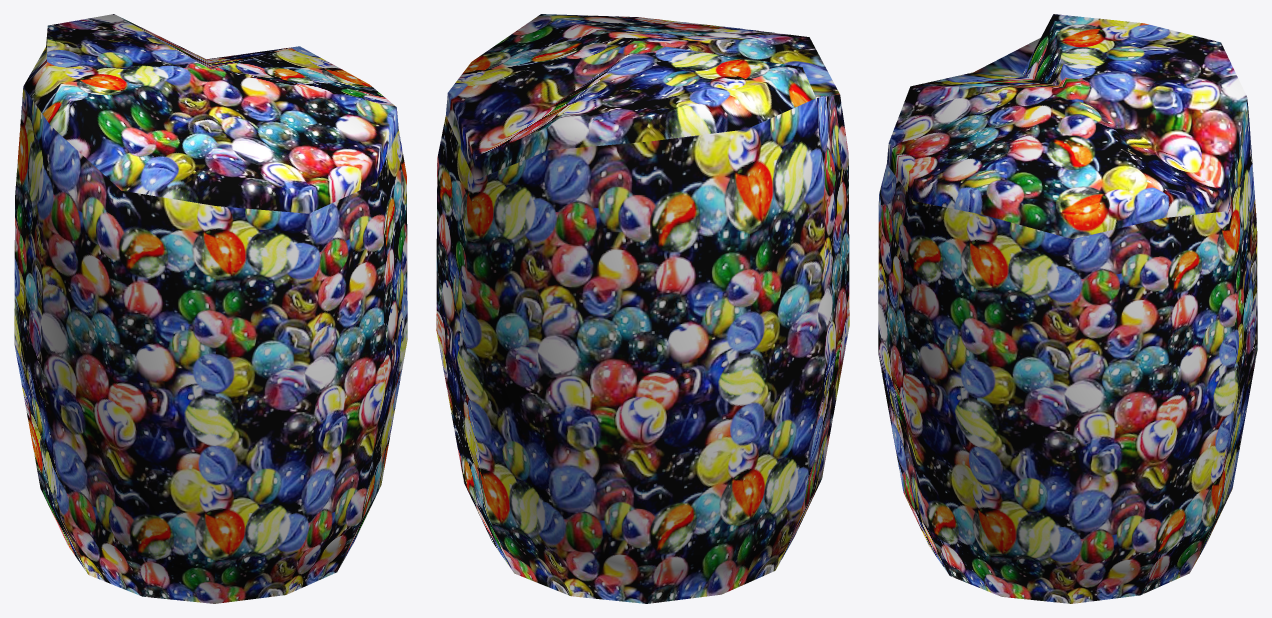
File: M_Home_Garden_Pot_Marbles.fbx
3 renders of one model, left to right at view 1: azimuth 30°, elevation 25°; view 2: azimuth 150°, elevation 25°; view 3: azimuth 270°, elevation 25°, orthographic. The views are drawn at different scales.
Parts seen in each view (by area): view 1: M_Home_Garden_Pot_Marbles; view 2: M_Home_Garden_Pot_Marbles; view 3: M_Home_Garden_Pot_Marbles.
Part boxes in pixels (left/top/right/bottom): M_Home_Garden_Pot_Marbles: left=14, top=14, right=407, bottom=603; M_Home_Garden_Pot_Marbles: left=436, top=14, right=849, bottom=603; M_Home_Garden_Pot_Marbles: left=878, top=14, right=1257, bottom=603.
Size of the model in its own units: 18.22 by 24.54 by 18.22.
